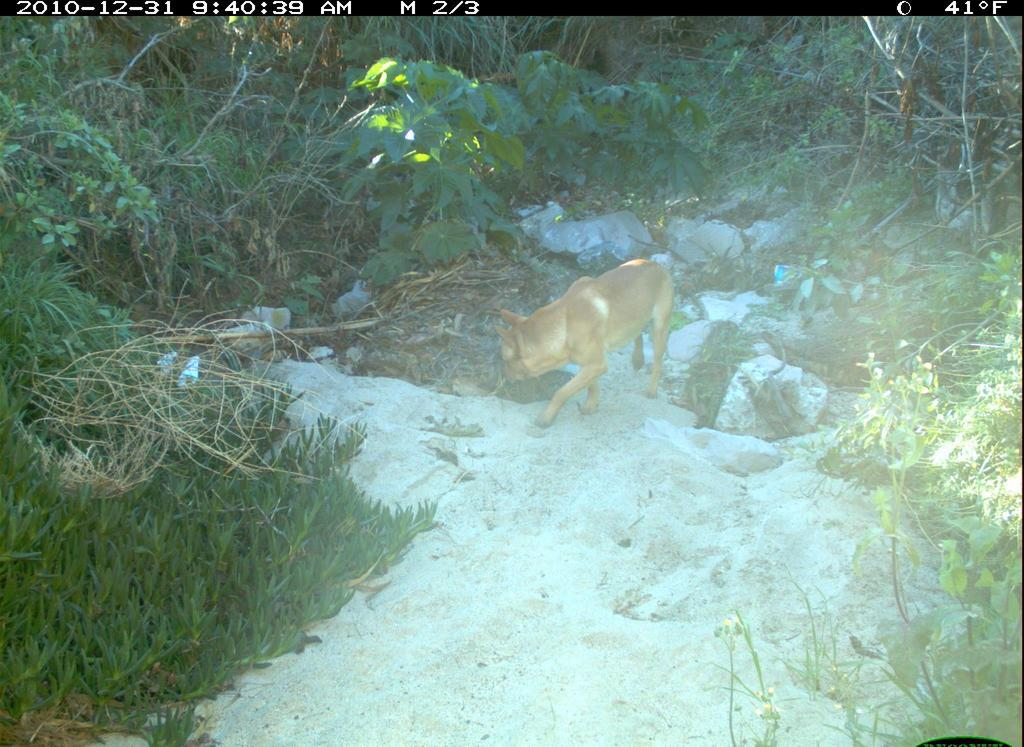dog: (472, 255, 692, 432)
